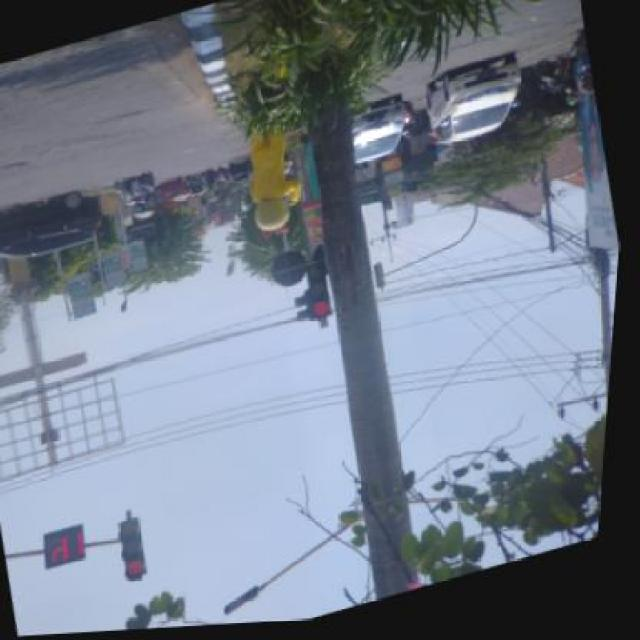red_light: (119, 516, 164, 586), (305, 262, 341, 326)
